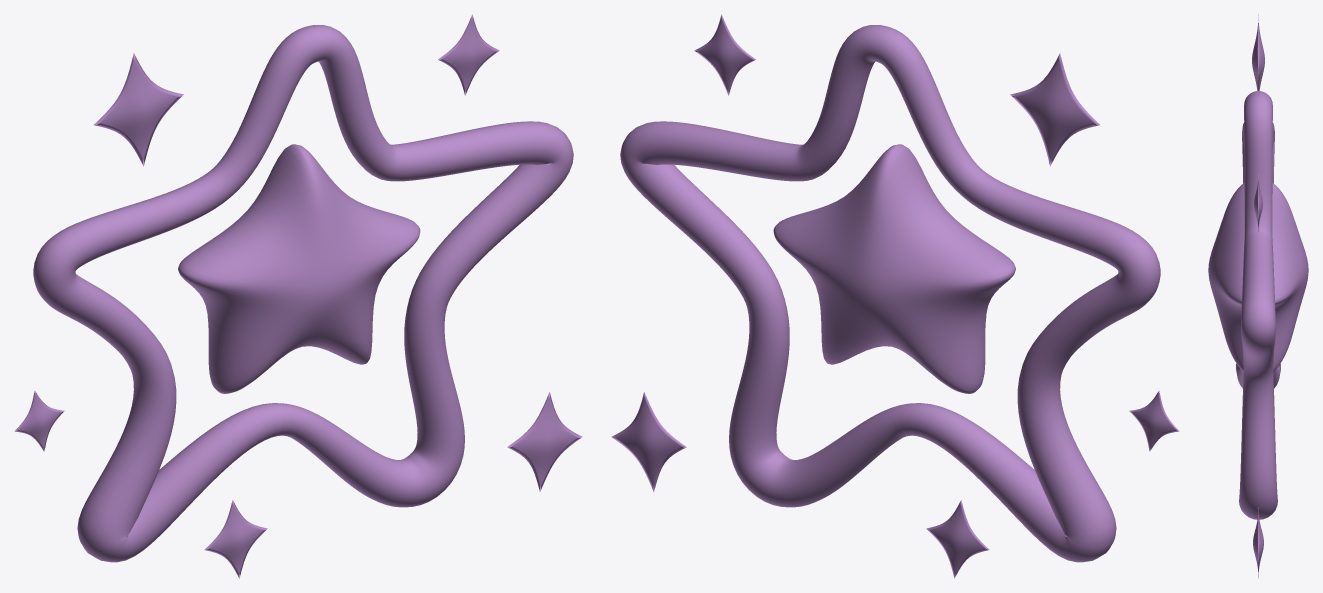
The model's file is star.glb.
The picture shows the model from 3 angles, left to right: view 1: azimuth 30°, elevation 25°; view 2: azimuth 150°, elevation 25°; view 3: azimuth 270°, elevation 25°; orthographic projection. The views are drawn at different scales.
Visible parts, largest first — view 1: OuterStar, InnerStar, Sparkle.TopLeft, Sparkle.BottomRight, Sparkle.BottomCenter, Sparkle.TopRight, Sparkle.MidLeft; view 2: OuterStar, InnerStar, Sparkle.TopLeft, Sparkle.BottomRight, Sparkle.BottomCenter, Sparkle.TopRight, Sparkle.MidLeft; view 3: OuterStar, InnerStar, Sparkle.TopLeft, Sparkle.BottomRight, Sparkle.TopRight.
Boxes of the visible parts, box(x1,y1,x2,y2) form: OuterStar: box(33, 25, 573, 562); InnerStar: box(178, 144, 420, 393); Sparkle.TopLeft: box(94, 53, 183, 166); Sparkle.BottomRight: box(507, 392, 582, 491); Sparkle.BottomCenter: box(204, 500, 267, 578); Sparkle.TopRight: box(438, 14, 499, 95); Sparkle.MidLeft: box(14, 390, 64, 451); OuterStar: box(620, 25, 1160, 562); InnerStar: box(773, 144, 1015, 393); Sparkle.TopLeft: box(1010, 53, 1099, 166); Sparkle.BottomRight: box(611, 392, 686, 491); Sparkle.BottomCenter: box(926, 500, 989, 578); Sparkle.TopRight: box(694, 14, 755, 95); Sparkle.MidLeft: box(1129, 390, 1179, 451); OuterStar: box(1236, 91, 1280, 519); InnerStar: box(1208, 183, 1308, 371); Sparkle.TopLeft: box(1252, 14, 1264, 90); Sparkle.BottomRight: box(1253, 507, 1263, 578); Sparkle.TopRight: box(1254, 174, 1262, 232).
Bounding box in the file's own units: 4.21 × 3.91 × 0.84.
